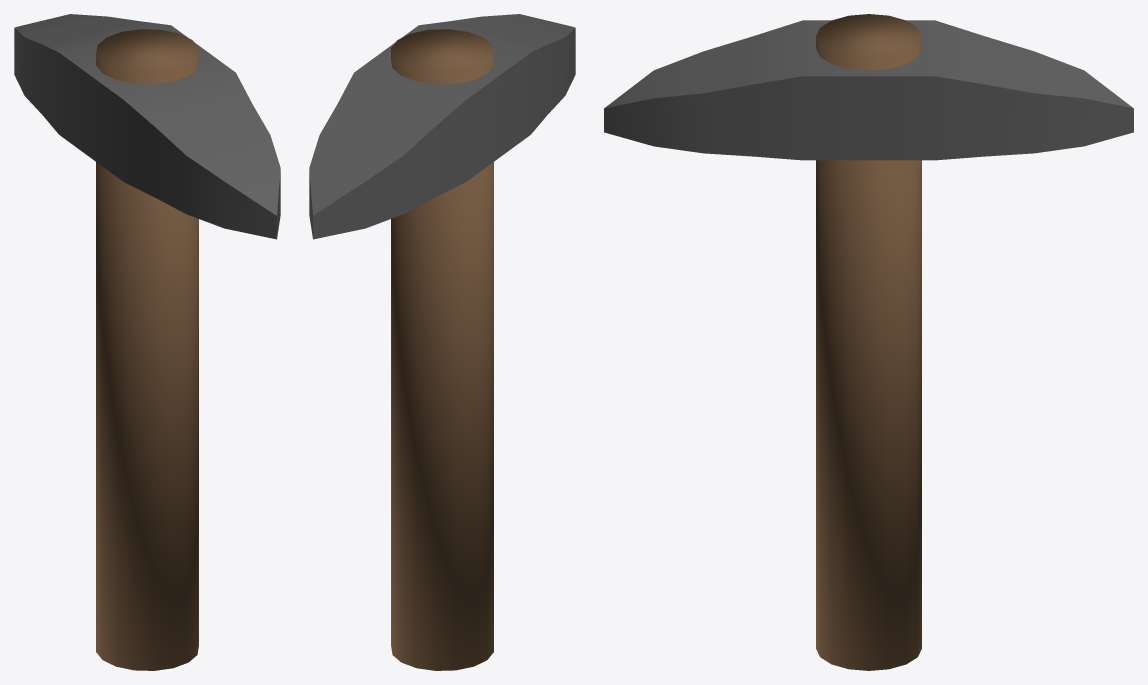
The model's file is pickaxe.glb.
3 renders of one model, left to right at view 1: azimuth 30°, elevation 25°; view 2: azimuth 150°, elevation 25°; view 3: azimuth 270°, elevation 25°, orthographic. The views are drawn at different scales.
Visible parts, largest first — view 1: Cylinder, Cube.001; view 2: Cylinder, Cube.001; view 3: Cylinder, Cube.001.
Boxes of the visible parts, x1,y1,x2,y2 form: Cylinder: (96,29,198,670); Cube.001: (14,14,280,239); Cylinder: (391,29,493,670); Cube.001: (309,14,575,239); Cylinder: (816,14,921,670); Cube.001: (604,20,1133,160).
Size of the model in its own units: 0.1 by 0.51 by 0.4.
